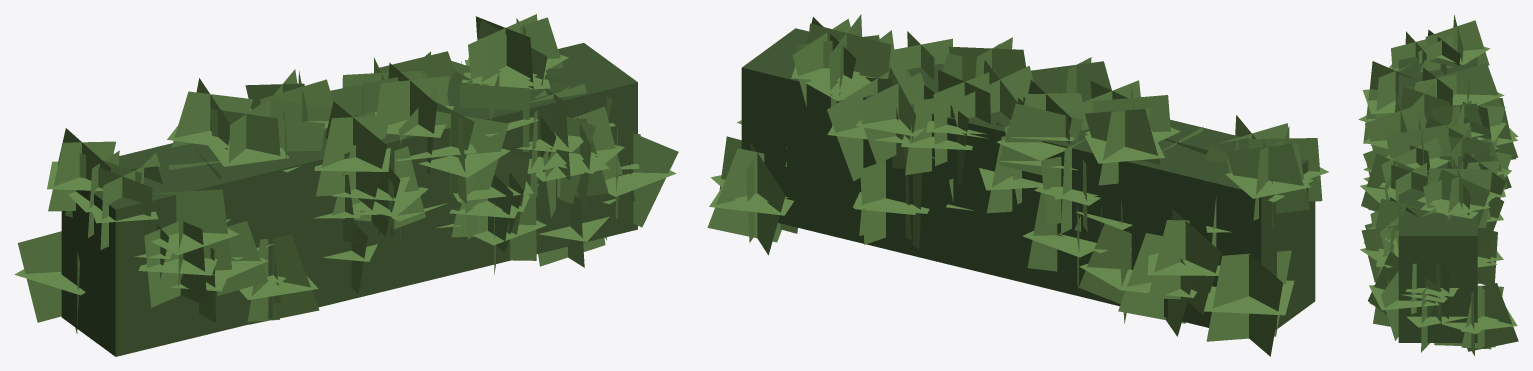
Rendered from SM_Hedge.fbx.
3 views of the same model, side by side, from view 1: azimuth 30°, elevation 25°; view 2: azimuth 150°, elevation 25°; view 3: azimuth 270°, elevation 25° (orthographic). The views are drawn at different scales.
Parts seen in each view (by area): view 1: SM_Hedge; view 2: SM_Hedge; view 3: SM_Hedge.
Boxes of the visible parts, x1,y1,x2,y2 form: SM_Hedge: [14, 14, 678, 356]; SM_Hedge: [707, 14, 1328, 356]; SM_Hedge: [1358, 15, 1518, 355].
Bounding box in the file's own units: 1.43 × 4.41 × 1.61.
